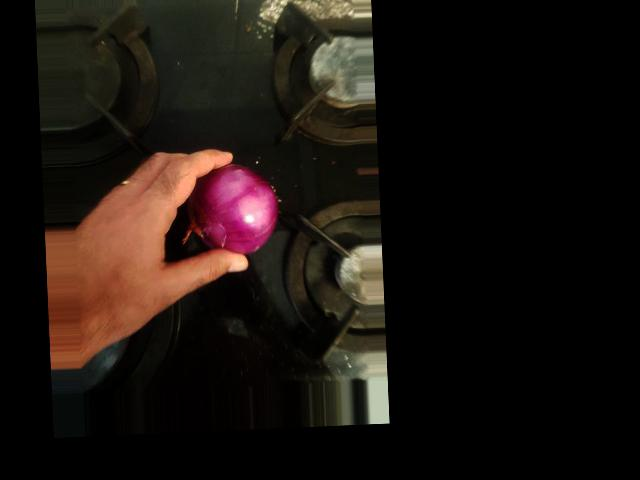onion: (229, 86, 327, 168)
